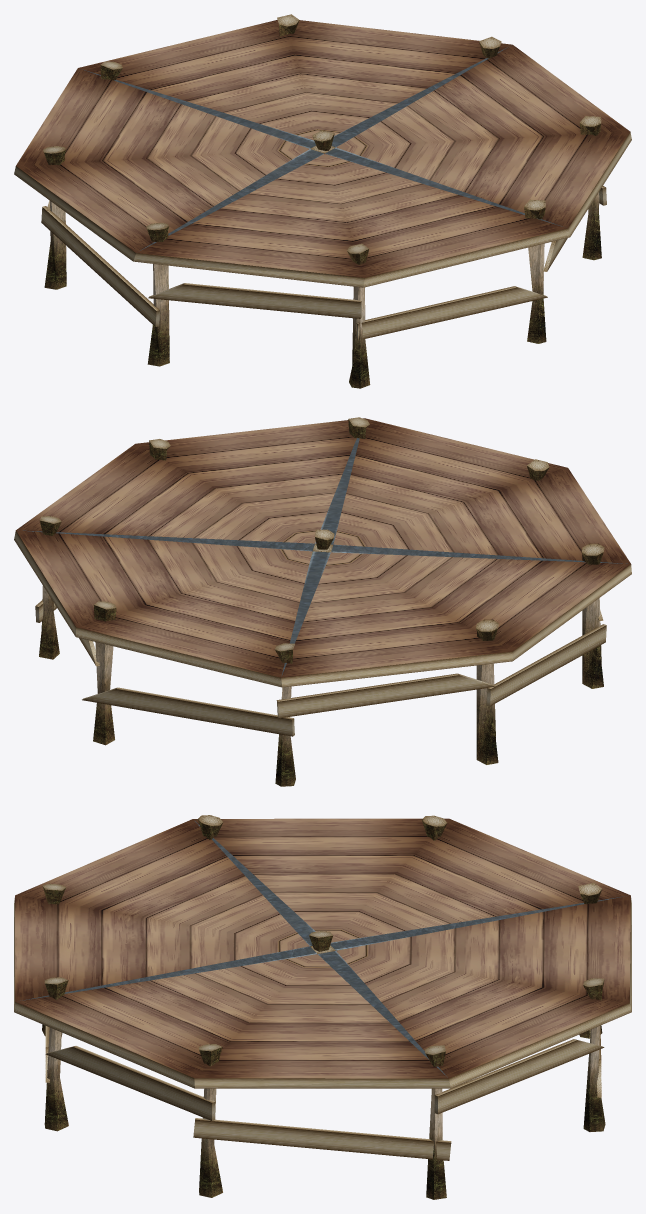
File: p2_platform2_okt_LOD1.fbx
3 views of the same model, one above another, from view 1: azimuth 30°, elevation 25°; view 2: azimuth 150°, elevation 25°; view 3: azimuth 270°, elevation 25° (orthographic). The views are drawn at different scales.
Visible parts, largest first — view 1: polymsh; view 2: polymsh; view 3: polymsh.
Part boxes in pixels (x1,y1,x2,y2): polymsh: (14,14,631,388); polymsh: (14,417,631,786); polymsh: (14,815,631,1199).
Bounding box in the file's own units: 292 × 76.47 × 292.
